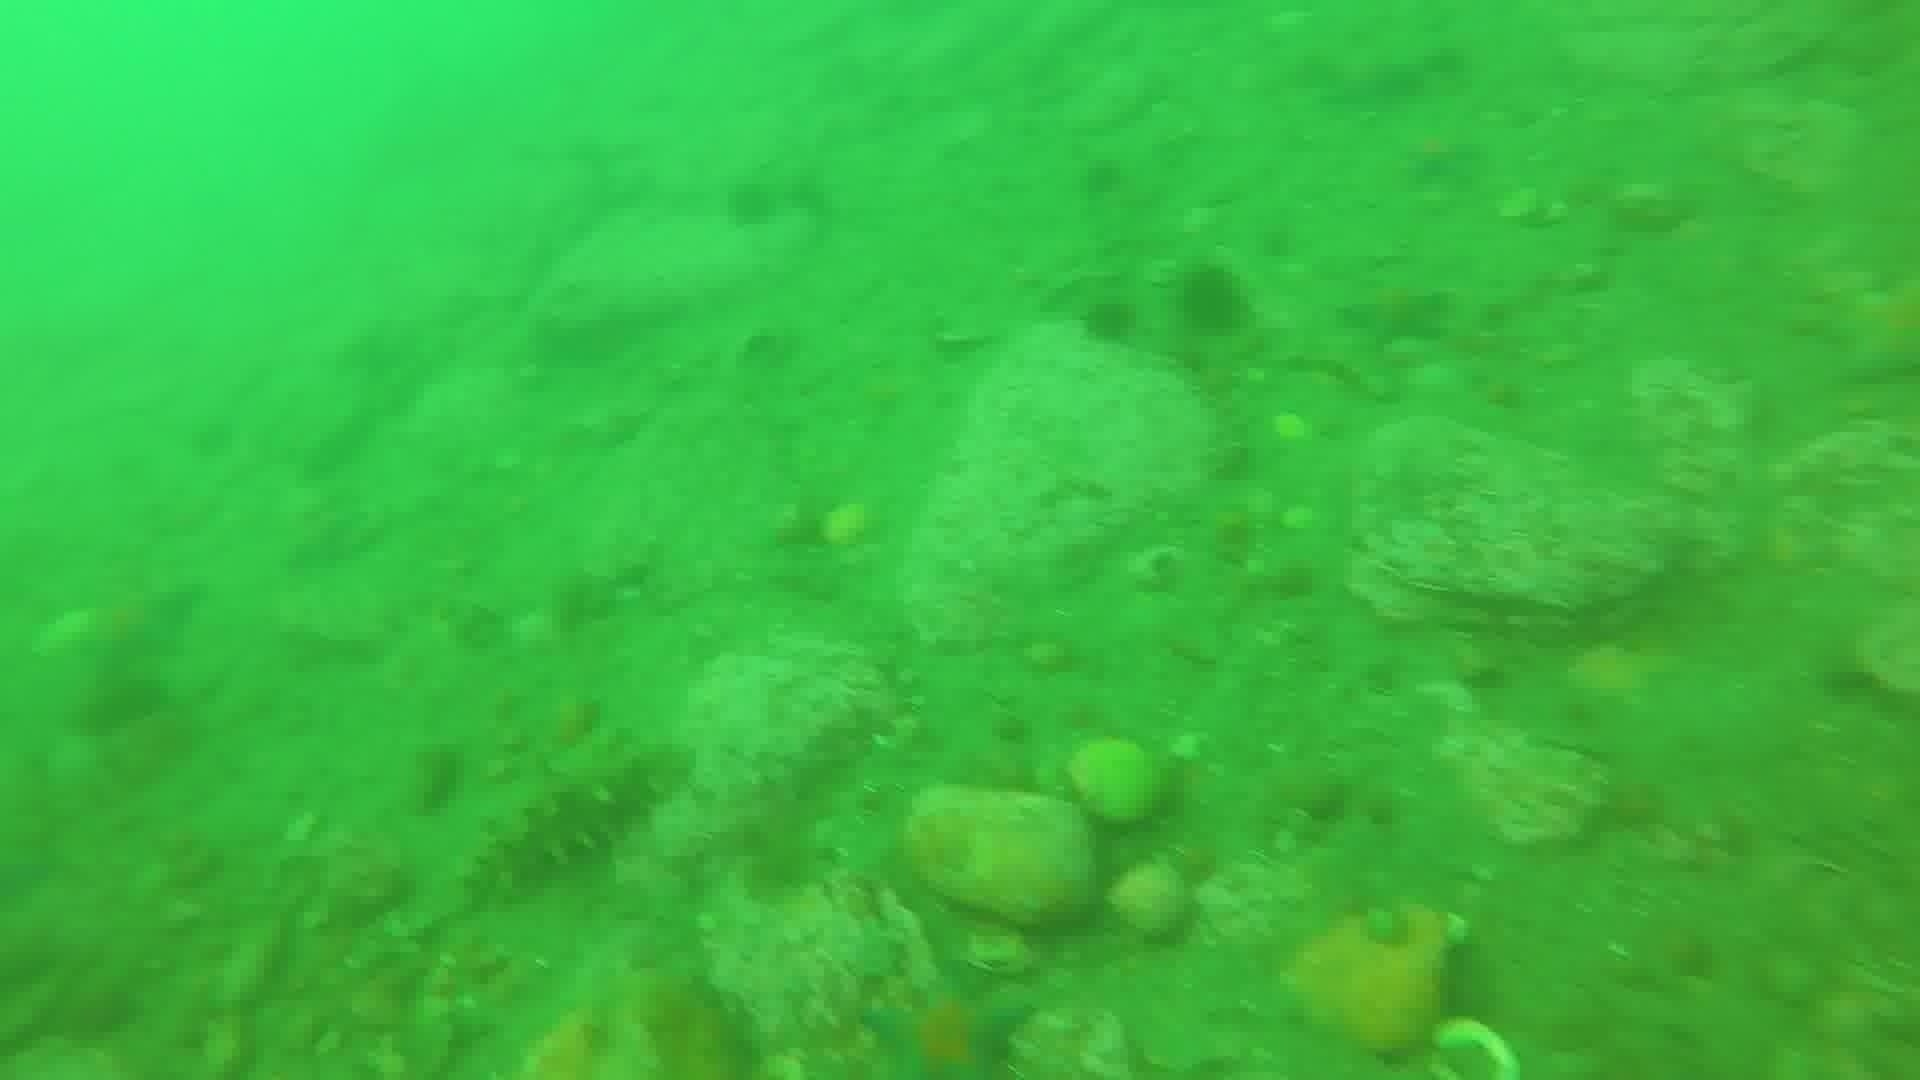echinus: (76, 671, 171, 741), (1172, 262, 1253, 339), (1075, 291, 1142, 351), (719, 174, 785, 233)
holothurian: (462, 735, 690, 905)
starfish: (860, 972, 1034, 1077), (61, 574, 206, 683), (1826, 274, 1919, 386), (1335, 276, 1457, 351), (1390, 120, 1489, 191)
